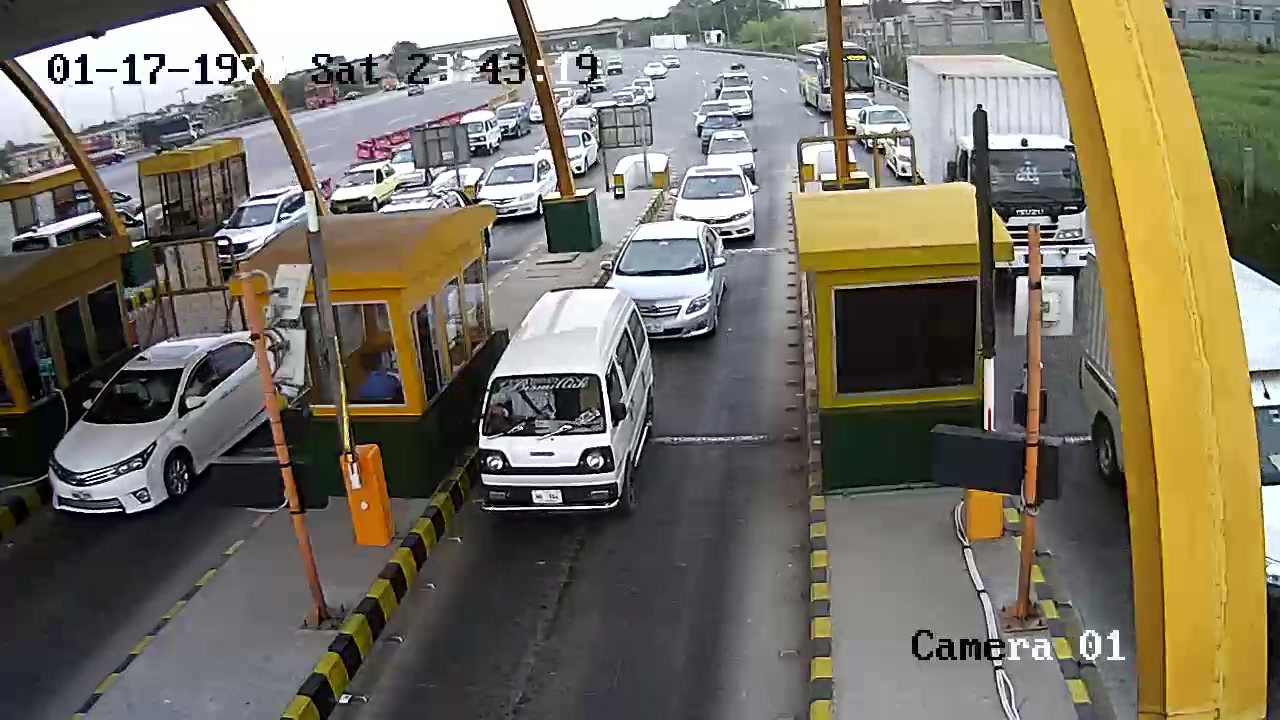F1: (472, 276, 657, 539)
